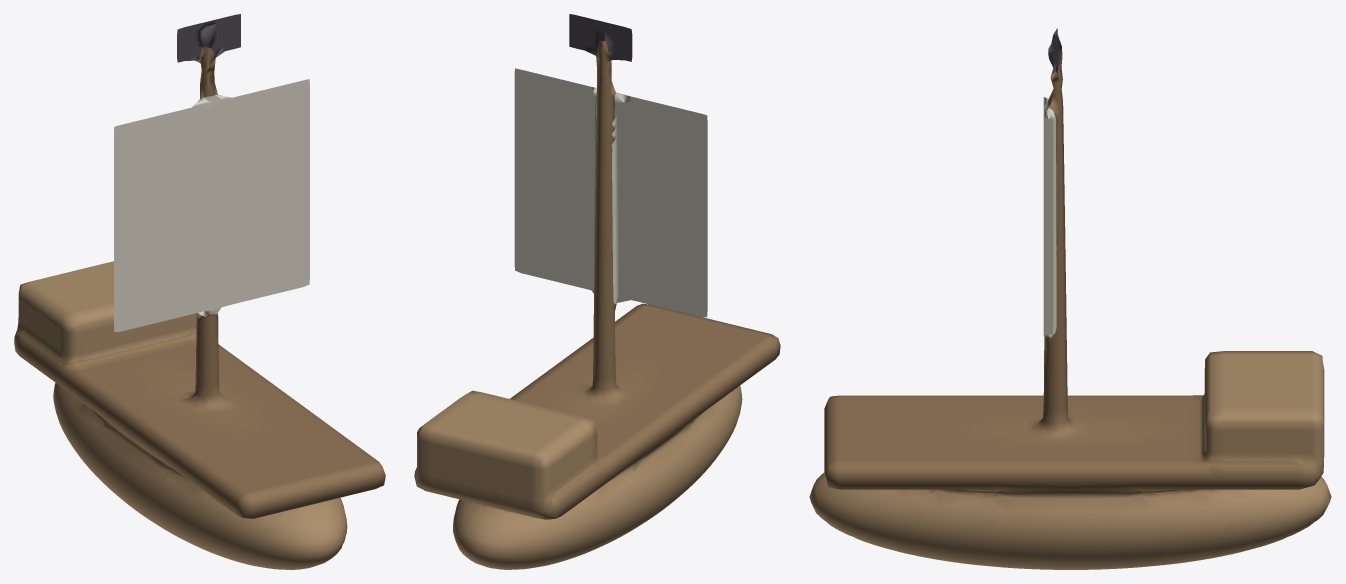
Rendered from ship.glb.
3 views of the same model, side by side, from view 1: azimuth 30°, elevation 25°; view 2: azimuth 150°, elevation 25°; view 3: azimuth 270°, elevation 25° (orthographic). The views are drawn at different scales.
Parts seen in each view (by area): view 1: ship; view 2: ship; view 3: ship.
Part boxes in pixels (box(x1,y1,x2,y2)): ship: box(14, 14, 385, 569); ship: box(414, 14, 780, 569); ship: box(809, 28, 1331, 569).
Size of the model in its own units: 64.09 by 157 by 140.
